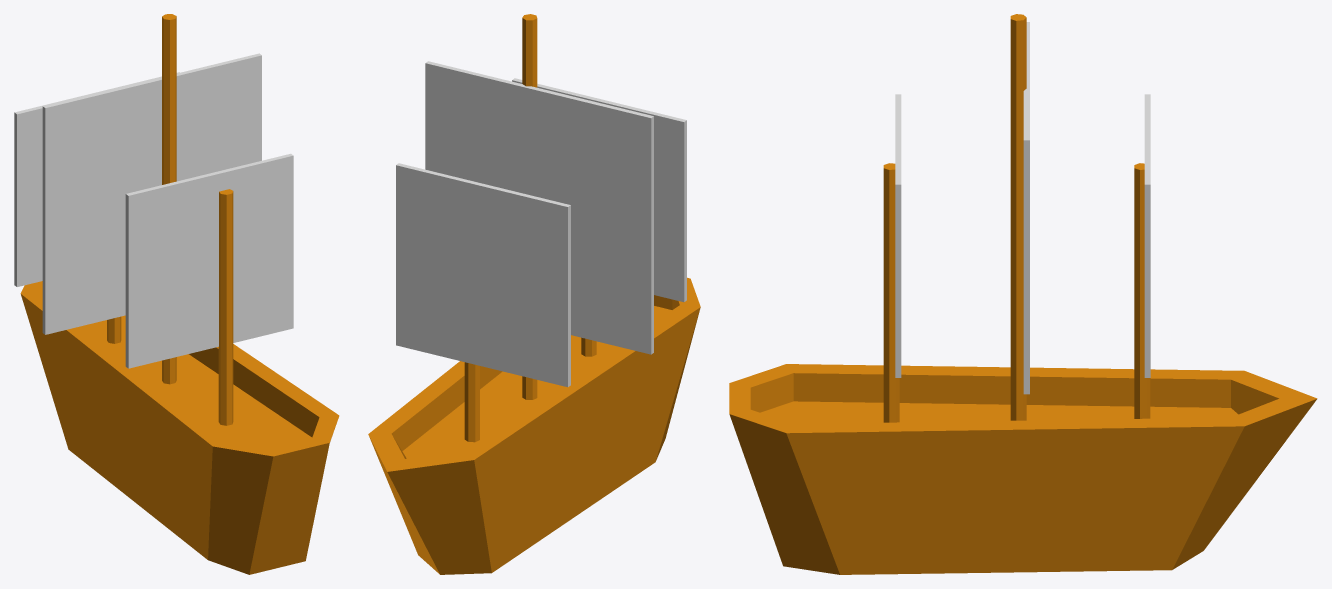
The model's file is ship.glb.
3 views of the same model, side by side, from view 1: azimuth 30°, elevation 25°; view 2: azimuth 150°, elevation 25°; view 3: azimuth 270°, elevation 25° (orthographic). The views are drawn at different scales.
Parts seen in each view (by area): view 1: Cylinder.042, Cube.020, Cube.022, Cube.021, Cylinder.043, Cylinder.044; view 2: Cylinder.042, Cube.020, Cube.021, Cube.022, Cylinder.044, Cylinder.045; view 3: Cylinder.042, Cylinder.044, Cylinder.043, Cylinder.045, Cube.020, Cube.021, Cube.022.
Boxes of the visible parts, x1=… form: Cylinder.042: x1=20, y1=281, x2=339, y2=574; Cube.020: x1=42, y1=53, x2=261, y2=334; Cube.022: x1=125, y1=153, x2=293, y2=368; Cube.021: x1=14, y1=72, x2=179, y2=286; Cylinder.043: x1=218, y1=189, x2=233, y2=425; Cylinder.044: x1=162, y1=14, x2=176, y2=384; Cylinder.042: x1=368, y1=277, x2=700, y2=574; Cube.020: x1=425, y1=61, x2=653, y2=354; Cube.021: x1=396, y1=163, x2=570, y2=387; Cube.022: x1=512, y1=78, x2=686, y2=302; Cylinder.044: x1=522, y1=14, x2=537, y2=399; Cylinder.045: x1=464, y1=362, x2=479, y2=442; Cylinder.042: x1=729, y1=364, x2=1317, y2=574; Cylinder.044: x1=1010, y1=14, x2=1026, y2=420; Cylinder.043: x1=883, y1=163, x2=899, y2=422; Cylinder.045: x1=1134, y1=163, x2=1150, y2=418; Cube.020: x1=1023, y1=22, x2=1029, y2=394; Cube.021: x1=1144, y1=94, x2=1150, y2=377; Cube.022: x1=895, y1=94, x2=901, y2=377.
Size of the model in its own units: 3.33 by 6.98 by 7.
